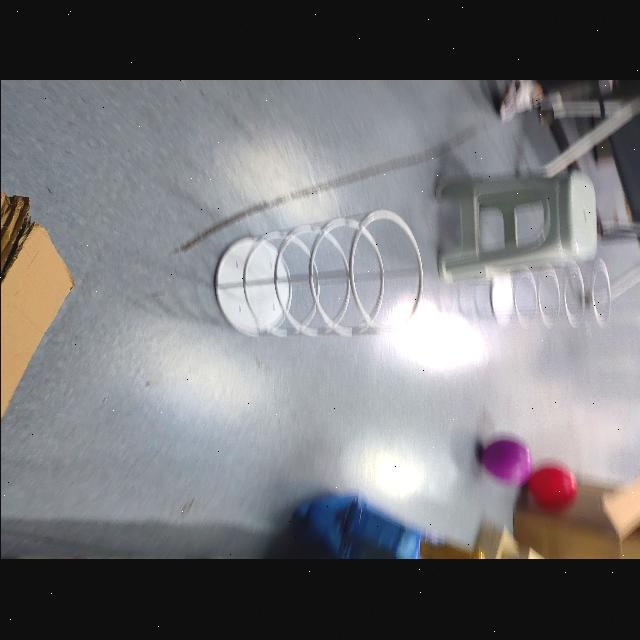S: (212, 209, 424, 339)
